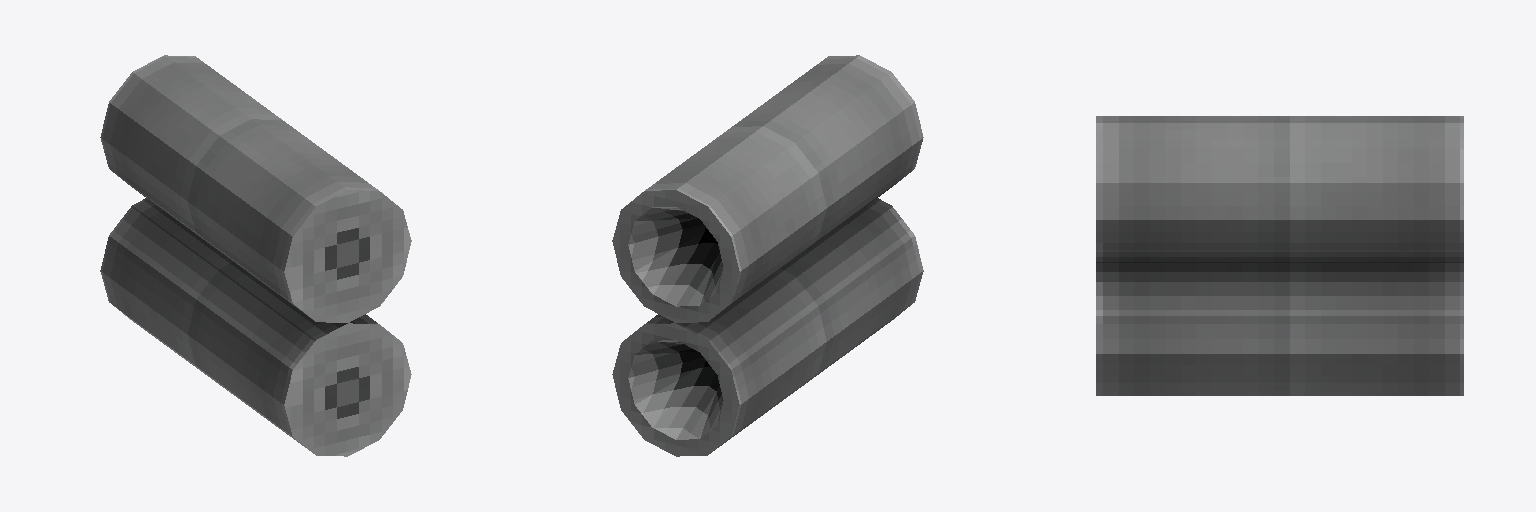
3 renders of one model, left to right at view 1: azimuth 30°, elevation 25°; view 2: azimuth 150°, elevation 25°; view 3: azimuth 270°, elevation 25°, orthographic.
Parts seen in each view (by area): view 1: mesh; view 2: mesh; view 3: mesh.
Boxes of the visible parts, x1,y1,x2,y2 form: mesh: [100, 55, 411, 456]; mesh: [612, 55, 923, 456]; mesh: [1096, 116, 1463, 395].
Size of the model in its own units: 0.05 by 0.1 by 0.125.
1 materials, 1 textured.